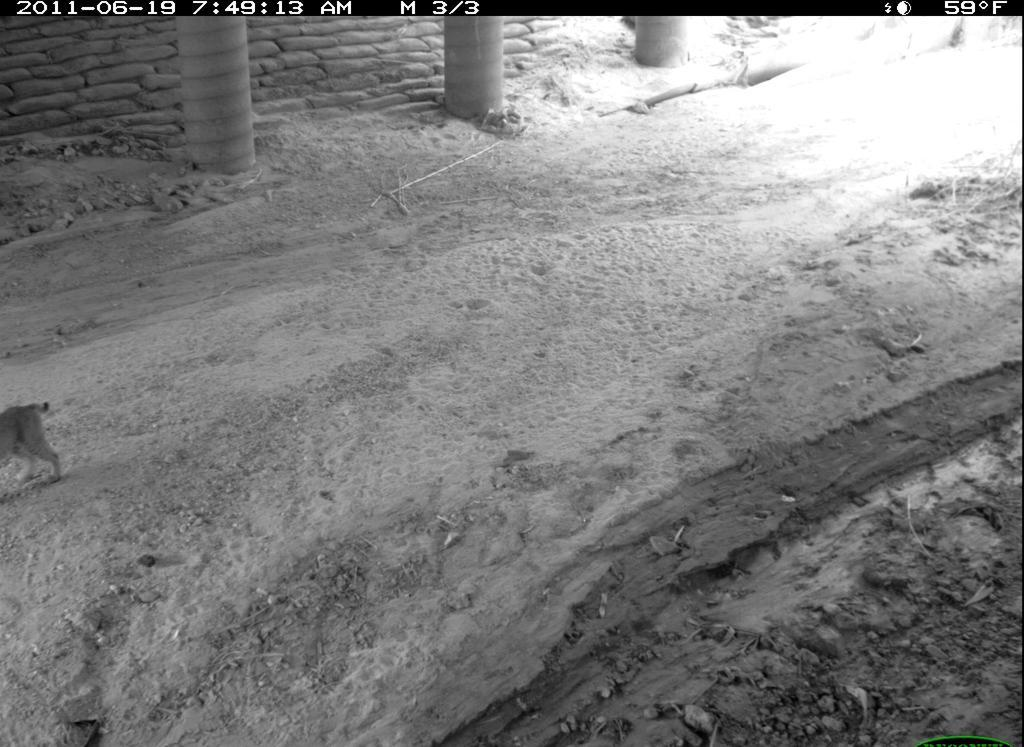bobcat: (1, 399, 68, 499)
